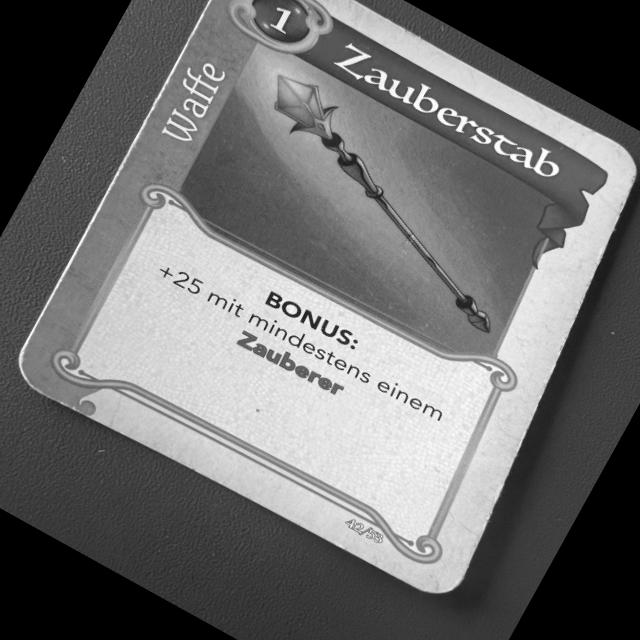Magic Wand: (9, 0, 640, 601)
